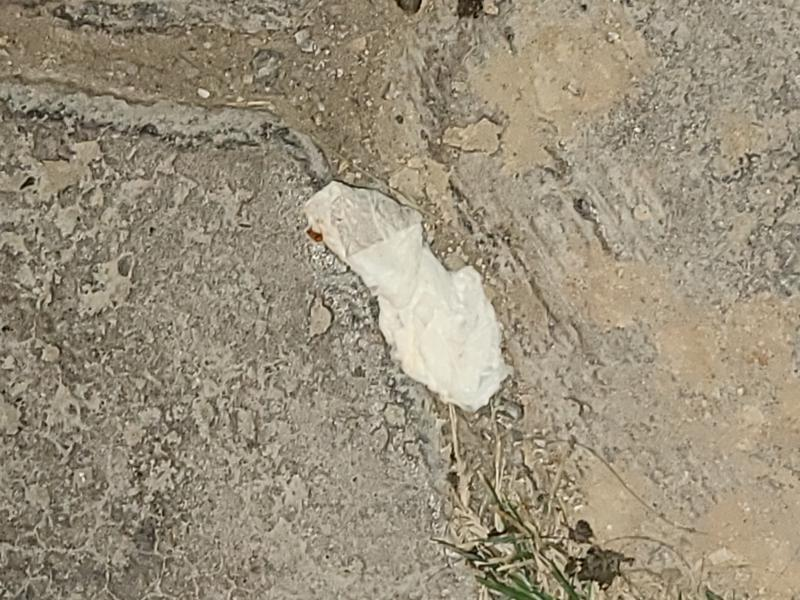papel: (299, 181, 514, 414)
